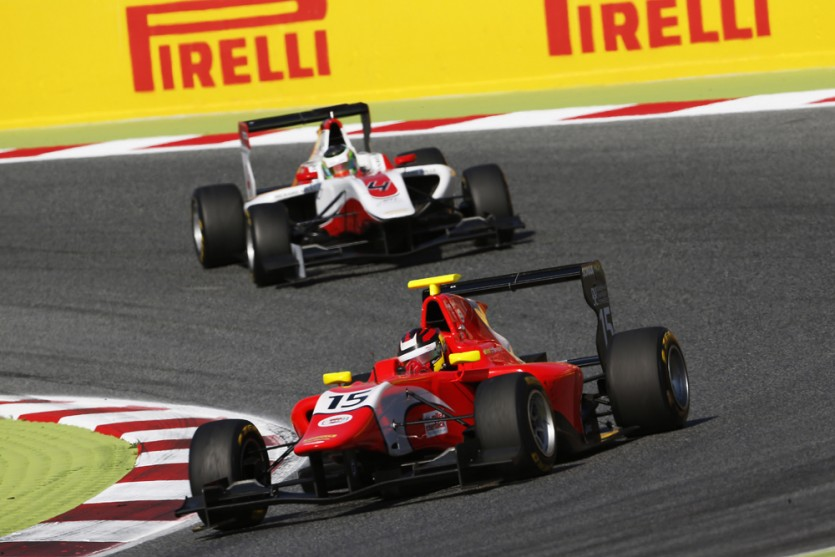race car: (172, 256, 693, 545), (185, 99, 533, 291)
